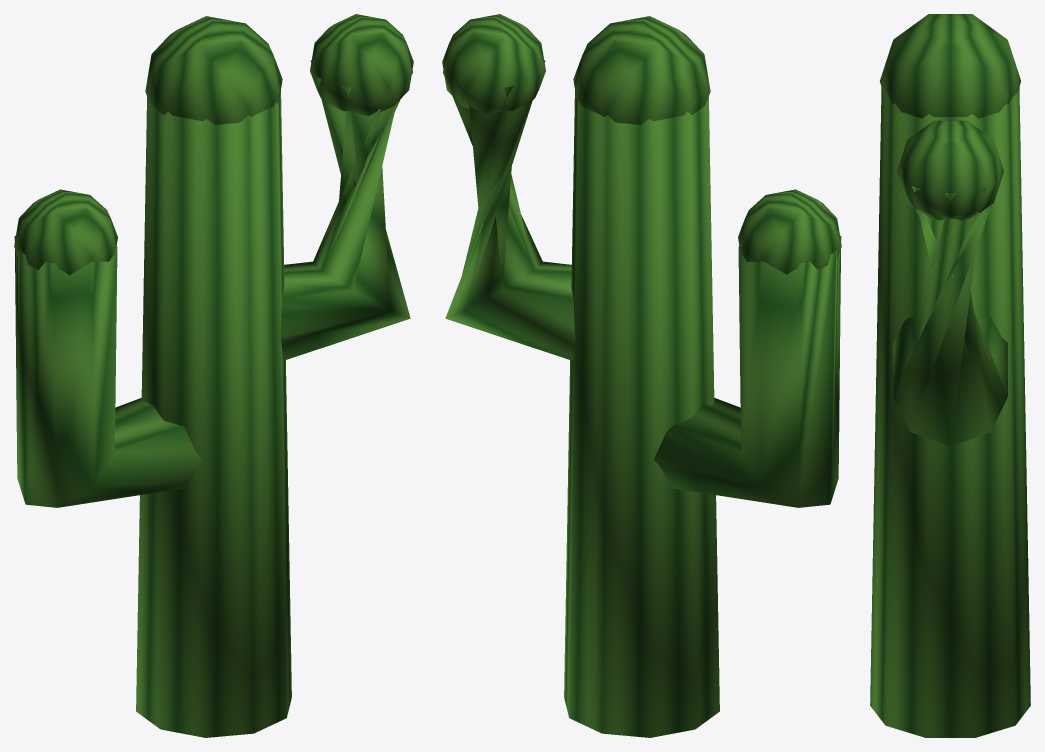
The model's file is kp_cactus.fbx.
3 renders of one model, left to right at view 1: azimuth 30°, elevation 25°; view 2: azimuth 150°, elevation 25°; view 3: azimuth 270°, elevation 25°, orthographic.
Visible parts, largest first — view 1: Asset_Cactus; view 2: Asset_Cactus; view 3: Asset_Cactus.
Boxes of the visible parts, x1,y1,x2,y2 form: Asset_Cactus: (14, 14, 413, 737); Asset_Cactus: (442, 14, 841, 737); Asset_Cactus: (870, 14, 1030, 737).
Bounding box in the file's own units: 2.36 × 3.97 × 0.84.
Materials: 1 (1 with a texture image).
